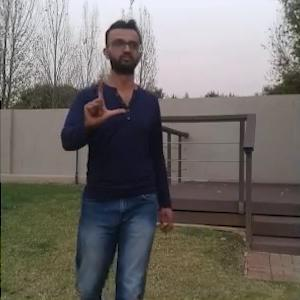land_hand: (79, 68, 128, 126)
